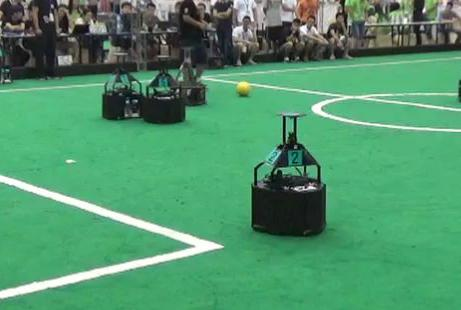robot: (247, 110, 332, 238), (97, 51, 148, 122), (139, 54, 187, 126)
